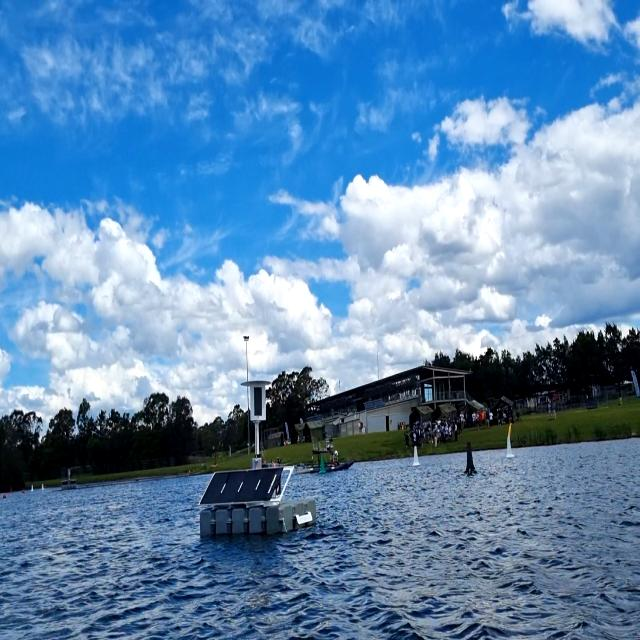led: (251, 385, 265, 419)
